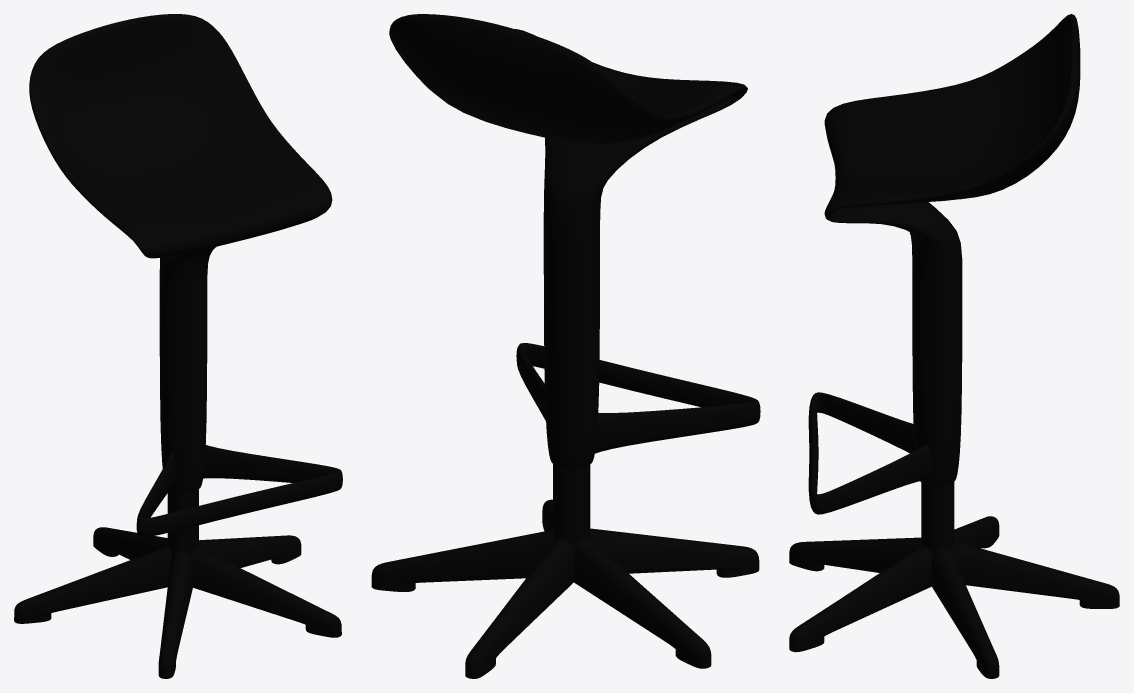
The model's file is chair_18_02.001.fbx.
The picture shows the model from 3 angles, left to right: view 1: azimuth 30°, elevation 25°; view 2: azimuth 150°, elevation 25°; view 3: azimuth 270°, elevation 25°; orthographic projection. The views are drawn at different scales.
Visible parts, largest first — view 1: chair_18_02.001; view 2: chair_18_02.001; view 3: chair_18_02.001.
Part boxes in pixels (bbox=[...]): chair_18_02.001: bbox=[14, 14, 342, 678]; chair_18_02.001: bbox=[371, 14, 760, 678]; chair_18_02.001: bbox=[789, 14, 1119, 678].
Bounding box in the file's own units: 40.25 × 72.43 × 38.36.
1 material, 1 textured.
